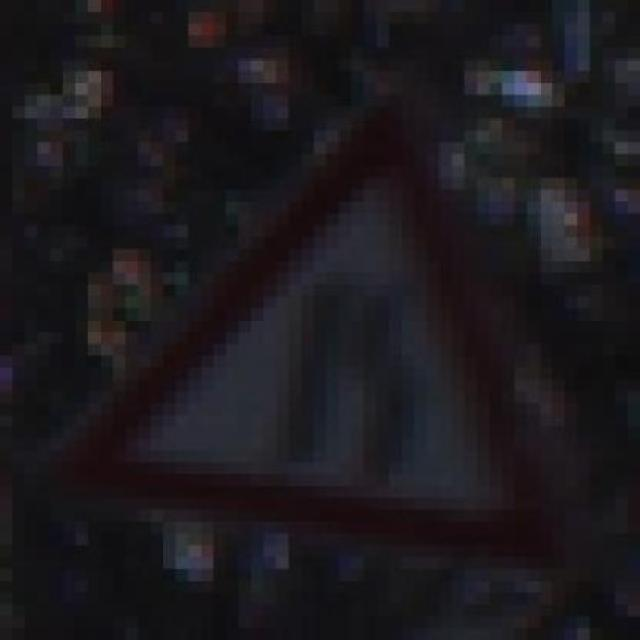-Road narrows on right: (88, 71, 577, 569)
